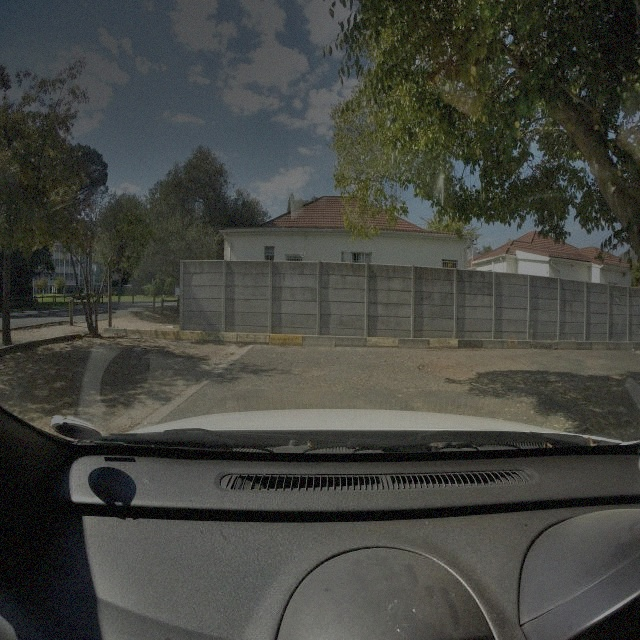pothole: (417, 353, 477, 382)
